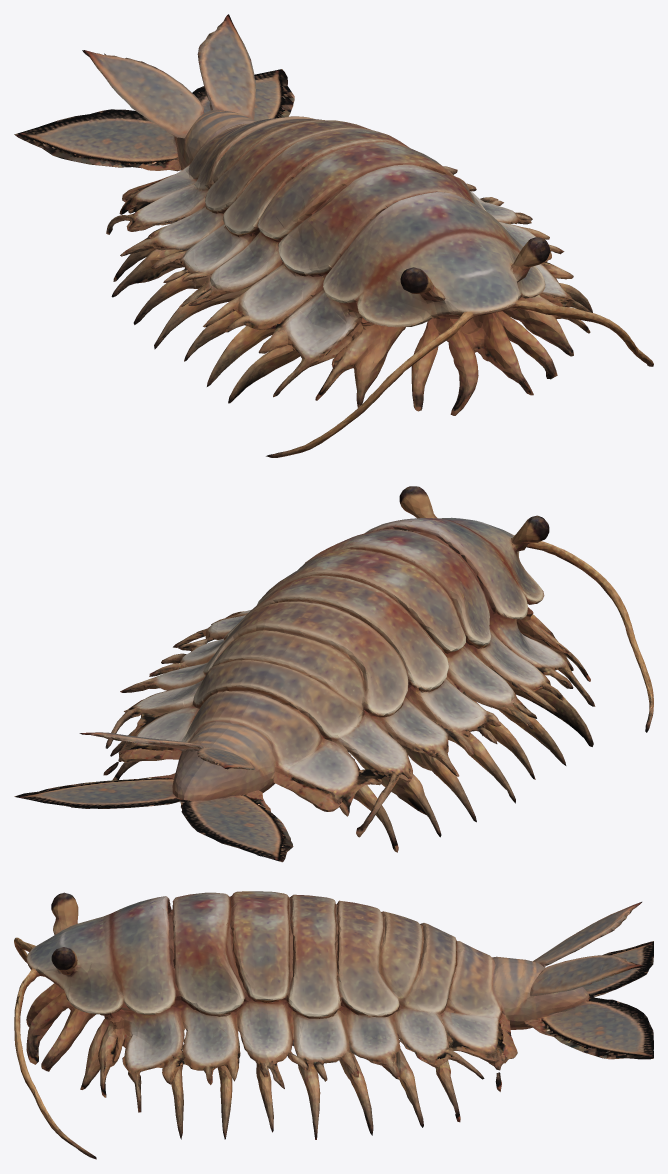
3 views of the same model, one above another, from view 1: azimuth 30°, elevation 25°; view 2: azimuth 150°, elevation 25°; view 3: azimuth 270°, elevation 25° (orthographic). The views are drawn at different scales.
Parts seen in each view (by area): view 1: world; view 2: world; view 3: world.
Part boxes in pixels (x1,y1,x2,y2): world: (14,14,653,457); world: (14,486,653,862); world: (14,891,653,1159).
Size of the model in its own units: 0.0807 by 0.0388 by 0.13.
1 material, 1 textured.
